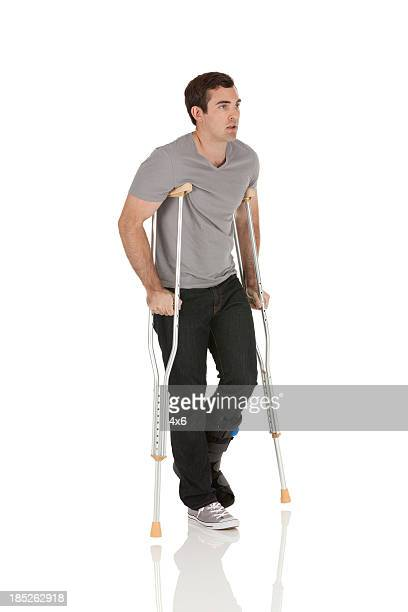crutches: (117, 72, 292, 539)
